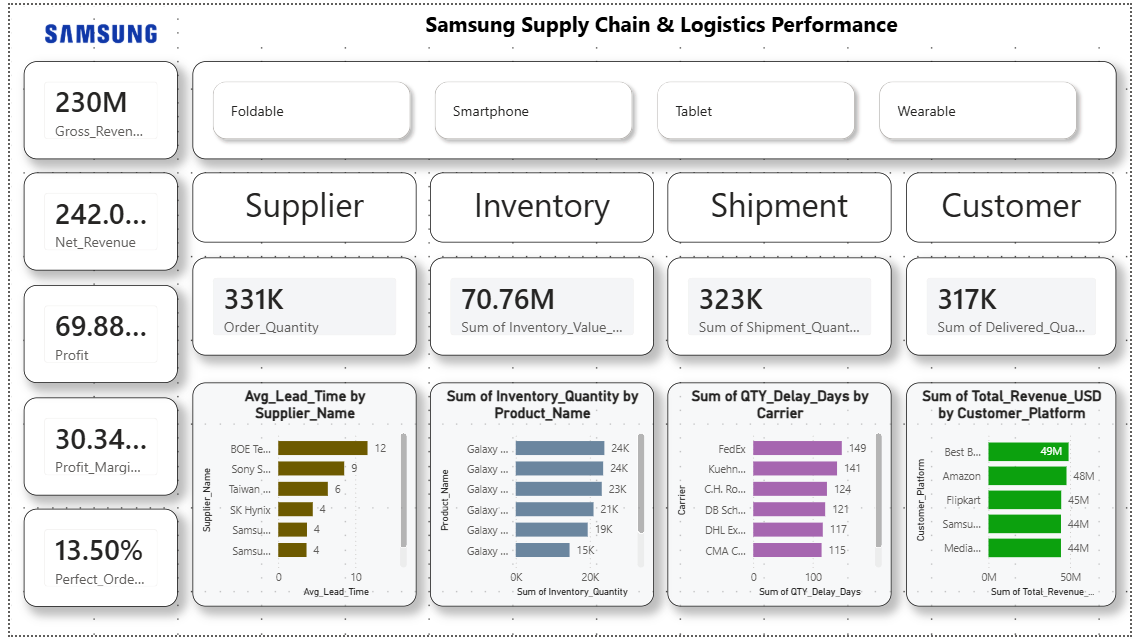

The dashboard page shown, as its layout file describes it:
{"tool":"powerbi","page":{"name":"Page 1","canvas":[1280,720],"ordinal":0},"visuals":[{"type":"textbox","box":[208,0,1072,48],"z":0},{"type":"cardVisual","fields":{"Data":["Fact_Orders.Profit_Margin_Percent"]},"box":[16,448,176,112],"z":1000},{"type":"cardVisual","fields":{"Data":["Fact_Orders.Profit"]},"box":[16,320,176,112],"z":2000},{"type":"cardVisual","fields":{"Data":["Fact_Orders.Net_Revenue"]},"box":[16,192,176,112],"z":3000},{"type":"cardVisual","fields":{"Data":["DateTable.Gross_Revenue"]},"box":[16,64,176,112],"z":4000},{"type":"advancedSlicerVisual","fields":{"Values":["Dim_Products.Category"]},"box":[208,64,1056,112],"z":5000},{"type":"cardVisual","fields":{"Data":["Fact_Orders.Perfect_Order_Rate"]},"box":[16,576,176,112],"z":6000},{"type":"clusteredBarChart","fields":{"Category":["Dim_Suppliers.Supplier_Name"],"Y":["DateTable.Avg_Lead_Time"]},"box":[208,432,256,256],"z":7000},{"type":"clusteredBarChart","fields":{"Category":["Dim_Inventory.Product_Name"],"Y":["Sum(Dim_Inventory.Inventory_Quantity)"]},"box":[480,432,256,256],"z":8000},{"type":"clusteredBarChart","fields":{"Category":["Fact_Orders.Carrier"],"Y":["Sum(Fact_Orders.QTY_Delay_Days)"]},"box":[752,432,256,256],"z":9000},{"type":"clusteredBarChart","fields":{"Y":["Sum(Fact_Orders.Total_Revenue_USD)"],"Category":["Dim_Customers.Customer_Platform"]},"box":[1024,432,240,256],"z":10000},{"type":"cardVisual","fields":{"Data":["Sum(Fact_Orders.Order_Quantity)"]},"box":[208,288,256,112],"z":11000},{"type":"cardVisual","fields":{"Data":["Sum(Dim_Inventory.Inventory_Value_USD)"]},"box":[480,288,256,112],"z":12000},{"type":"cardVisual","fields":{"Data":["Sum(Fact_Orders.Shipment_Quantity)"]},"box":[752,288,256,112],"z":13000},{"type":"cardVisual","fields":{"Data":["Sum(Fact_Orders.Delivered_Quantity)"]},"box":[1024,288,240,112],"z":14000},{"type":"textbox","box":[208,192,256,80],"z":15000},{"type":"textbox","box":[480,192,256,80],"z":16000},{"type":"textbox","box":[752,192,256,80],"z":17000},{"type":"textbox","box":[1024,192,240,80],"z":18000},{"type":"image","box":[0,0,208,64],"z":19000}]}

Visuals, with their boxes in screenshot pixels (x1, y1, x2, y2), scaled from the page's 1280x720 canvas onto the 1137x642 screenshot:
textbox: rect(185, 0, 1136, 43)
cardVisual - Fact_Orders.Profit_Margin_Percent: rect(14, 399, 171, 499)
cardVisual - Fact_Orders.Profit: rect(14, 285, 171, 385)
cardVisual - Fact_Orders.Net_Revenue: rect(14, 171, 171, 271)
cardVisual - DateTable.Gross_Revenue: rect(14, 57, 171, 157)
advancedSlicerVisual - Dim_Products.Category: rect(185, 57, 1123, 157)
cardVisual - Fact_Orders.Perfect_Order_Rate: rect(14, 514, 171, 613)
clusteredBarChart - Dim_Suppliers.Supplier_Name x DateTable.Avg_Lead_Time: rect(185, 385, 412, 613)
clusteredBarChart - Dim_Inventory.Product_Name x Sum(Dim_Inventory.Inventory_Quantity): rect(426, 385, 654, 613)
clusteredBarChart - Fact_Orders.Carrier x Sum(Fact_Orders.QTY_Delay_Days): rect(668, 385, 895, 613)
clusteredBarChart - Sum(Fact_Orders.Total_Revenue_USD) x Dim_Customers.Customer_Platform: rect(910, 385, 1123, 613)
cardVisual - Sum(Fact_Orders.Order_Quantity): rect(185, 257, 412, 357)
cardVisual - Sum(Dim_Inventory.Inventory_Value_USD): rect(426, 257, 654, 357)
cardVisual - Sum(Fact_Orders.Shipment_Quantity): rect(668, 257, 895, 357)
cardVisual - Sum(Fact_Orders.Delivered_Quantity): rect(910, 257, 1123, 357)
textbox: rect(185, 171, 412, 243)
textbox: rect(426, 171, 654, 243)
textbox: rect(668, 171, 895, 243)
textbox: rect(910, 171, 1123, 243)
image: rect(0, 0, 185, 57)
